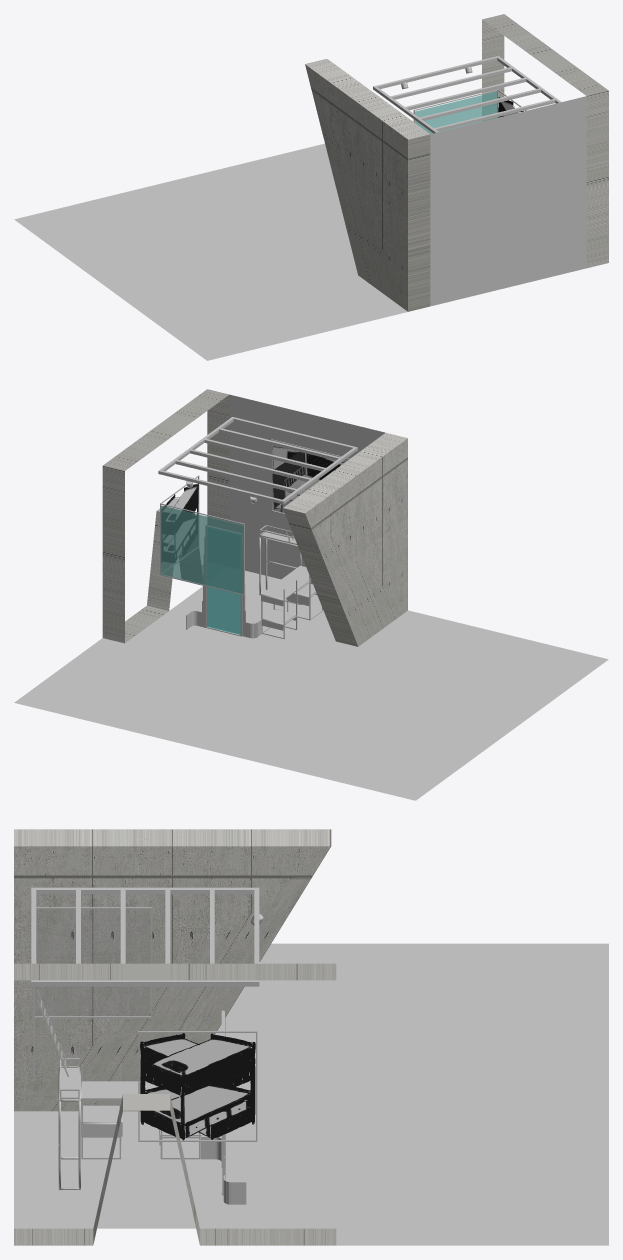
3 views of the same model, one above another, from view 1: azimuth 30°, elevation 25°; view 2: azimuth 150°, elevation 25°; view 3: azimuth 270°, elevation 25° (orthographic). The views are drawn at different scales.
Visible parts, largest first — view 1: Plane_ID1515, Plane.3_ID1634, Plane.002_ID1625, Plane.5_ID1616, Plane.1_ID1506, Cube.004_ID146, Cube.107_ID1579, Cube.106_ID1570, Cube.108_ID1588, Cube.109_ID1597, Cube.105_ID1561; view 2: Plane_ID1515, Plane.002_ID1625, Plane.1_ID1506, Plane.5_ID1616, Plane.004_ID1643, Plane.3_ID1634, Cube.004_ID146, _350mWall_cover_ID155, Cube.2_ID119, Cube.1_ID128, Cube.3_ID109, Cube.105_ID1561 (+5 smaller); view 3: Plane_ID1515, Plane.002_ID1625, Plane.1_ID1506, Plane.004_ID1643, Plane.5_ID1616, Cube.2_ID119, Cube_ID137, Cube.103_ID1543, Cube.104_ID1552, Cube.7_ID91, Cube.3_ID109, Cube.8_ID82.
Part boxes in pixels (left/top/right/bottom): Plane_ID1515: left=14, top=165, right=407, bottom=360; Plane.3_ID1634: left=430, top=96, right=586, bottom=306; Plane.002_ID1625: left=305, top=59, right=430, bottom=311; Plane.5_ID1616: left=482, top=14, right=608, bottom=268; Plane.1_ID1506: left=237, top=122, right=431, bottom=229; Cube.004_ID146: left=415, top=91, right=497, bottom=133; Cube.107_ID1579: left=402, top=77, right=528, bottom=110; Cube.106_ID1570: left=388, top=66, right=513, bottom=99; Cube.108_ID1588: left=417, top=88, right=543, bottom=120; Cube.109_ID1597: left=431, top=99, right=555, bottom=132; Cube.105_ID1561: left=373, top=56, right=498, bottom=88; Plane_ID1515: left=193, top=610, right=608, bottom=800; Plane.002_ID1625: left=283, top=433, right=407, bottom=646; Plane.1_ID1506: left=14, top=638, right=280, bottom=746; Plane.5_ID1616: left=102, top=389, right=229, bottom=643; Plane.004_ID1643: left=125, top=570, right=335, bottom=681; Plane.3_ID1634: left=229, top=394, right=385, bottom=584; Cube.004_ID146: left=160, top=505, right=243, bottom=595; _350mWall_cover_ID155: left=207, top=527, right=240, bottom=634; Cube.2_ID119: left=161, top=483, right=198, bottom=562; Cube.1_ID128: left=272, top=446, right=343, bottom=512; Cube.3_ID109: left=261, top=565, right=311, bottom=606; Cube.105_ID1561: left=158, top=470, right=285, bottom=504; Plane_ID1515: left=198, top=943, right=608, bottom=1111; Plane.002_ID1625: left=14, top=829, right=331, bottom=1111; Plane.1_ID1506: left=336, top=1111, right=608, bottom=1245; Plane.004_ID1643: left=14, top=1111, right=336, bottom=1228; Plane.5_ID1616: left=14, top=963, right=336, bottom=1245; Cube.2_ID119: left=140, top=1033, right=255, bottom=1140; Cube_ID137: left=35, top=910, right=148, bottom=1015; Cube.103_ID1543: left=36, top=887, right=259, bottom=894; Cube.104_ID1552: left=36, top=980, right=259, bottom=986; Cube.7_ID91: left=81, top=1105, right=122, bottom=1137; Cube.3_ID109: left=81, top=1081, right=162, bottom=1108; Cube.8_ID82: left=81, top=1140, right=121, bottom=1159.
Size of the model in its own units: 14.4 by 5.9 by 12.
